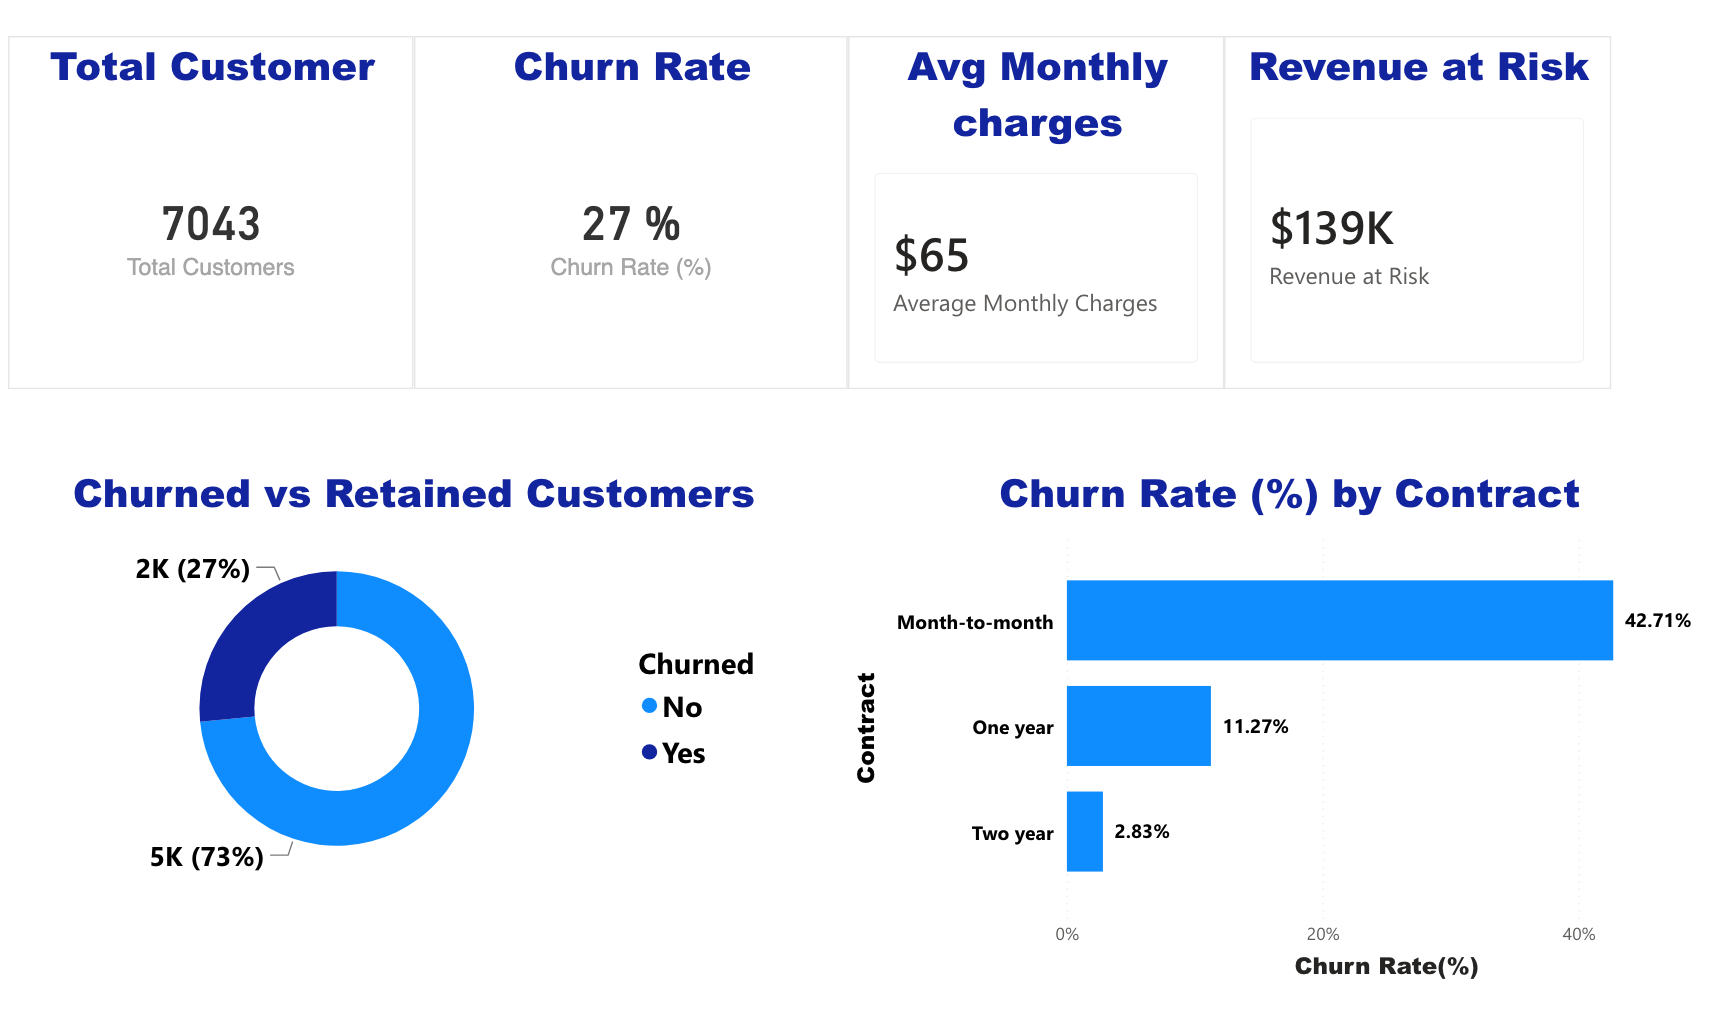

This screenshot's page, from the dashboard's own definition file:
{"tool":"powerbi","page":{"name":"Executive Overview","canvas":[1280,720],"ordinal":0},"visuals":[{"type":"advanceCardE03760C5AB684758B56AA29F9E6C257B","title":"Total Customer","fields":{"mainMeasure":["Telco Customer Churn.Total Customers"]},"box":[26.8,46.5,278.9,243.1],"z":0},{"type":"advanceCardE03760C5AB684758B56AA29F9E6C257B","title":"Churn Rate","fields":{"mainMeasure":["Telco Customer Churn.Churn Rate (%)"]},"box":[305.7,46.5,298.5,243.1],"z":1000},{"type":"cardVisual","title":"Avg Monthly charges","fields":{"Data":["Telco Customer Churn.Average Monthly Charges"]},"box":[604.2,46.5,259.2,243.1],"z":2000},{"type":"cardVisual","title":"Revenue at Risk","fields":{"Data":["Telco Customer Churn.Revenue at Risk"]},"box":[863.5,46.5,266.4,243.1],"z":3000},{"type":"donutChart","title":"Churned vs Retained Customers","fields":{"Category":["Telco Customer Churn.Churn"],"Y":["Telco Customer Churn.Total Customers"]},"box":[39.3,341.5,530.9,298.5],"z":4000},{"type":"clusteredBarChart","fields":{"Category":["Telco Customer Churn.Contract"],"Y":["Telco Customer Churn.Churn Rate (%)"]},"box":[604.2,341.5,607.8,361.1],"z":5000}]}

Visuals, with their boxes on the page's 1280x720 design canvas (x1, y1, x2, y2). These are canvas units, not pixel positions in the 1736x1036 screenshot, which may show the page scaled, cropped or inside an application window:
"Total Customer" advanceCardE03760C5AB684758B56AA29F9E6C257B: BBox(27, 46, 306, 290)
"Churn Rate" advanceCardE03760C5AB684758B56AA29F9E6C257B: BBox(306, 46, 604, 290)
"Avg Monthly charges" cardVisual: BBox(604, 46, 863, 290)
"Revenue at Risk" cardVisual: BBox(864, 46, 1130, 290)
"Churned vs Retained Customers" donutChart: BBox(39, 342, 570, 640)
clusteredBarChart - Telco Customer Churn.Contract x Telco Customer Churn.Churn Rate (%): BBox(604, 342, 1212, 703)
